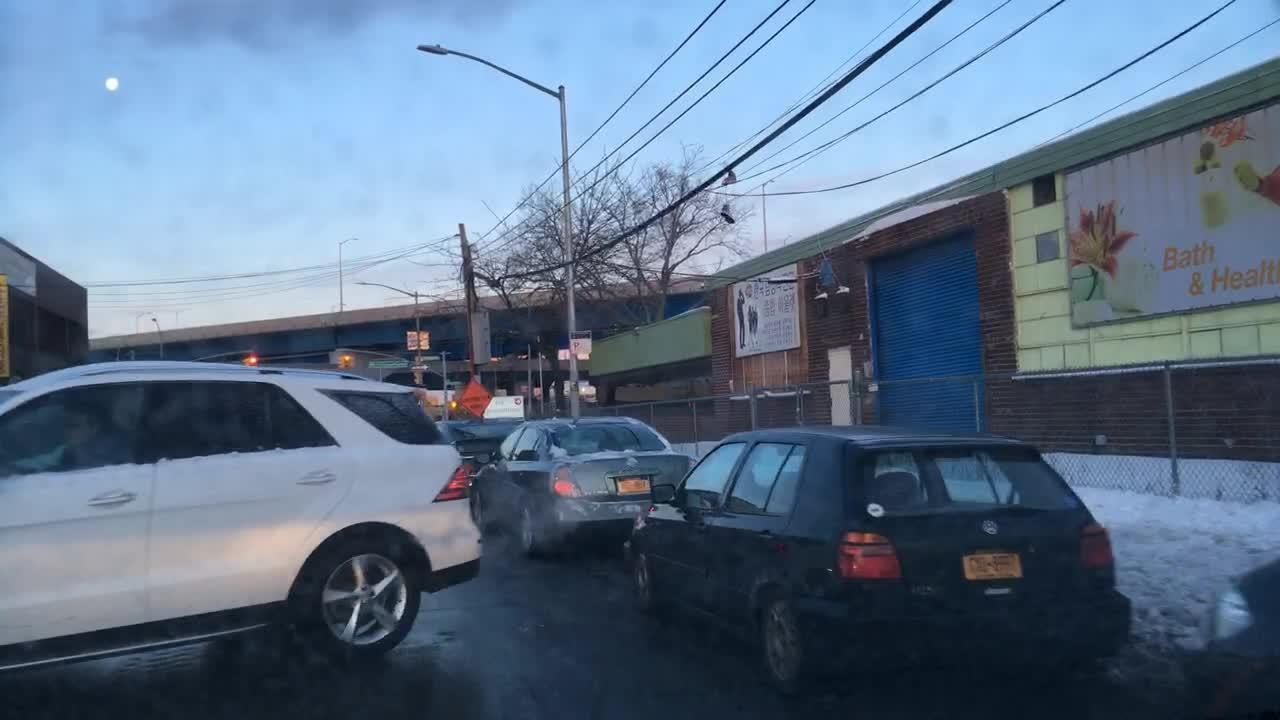Volkswagen: (975, 516, 1013, 539)
